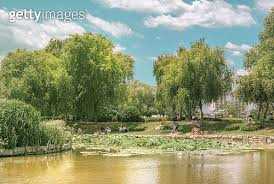forest: (12, 45, 271, 149)
lake: (5, 144, 274, 182)
tree: (152, 41, 225, 130)
